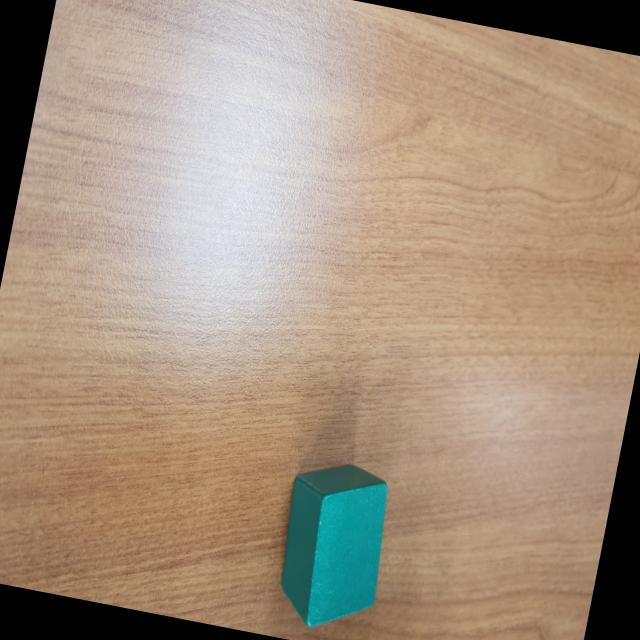green: (264, 452, 400, 640)
